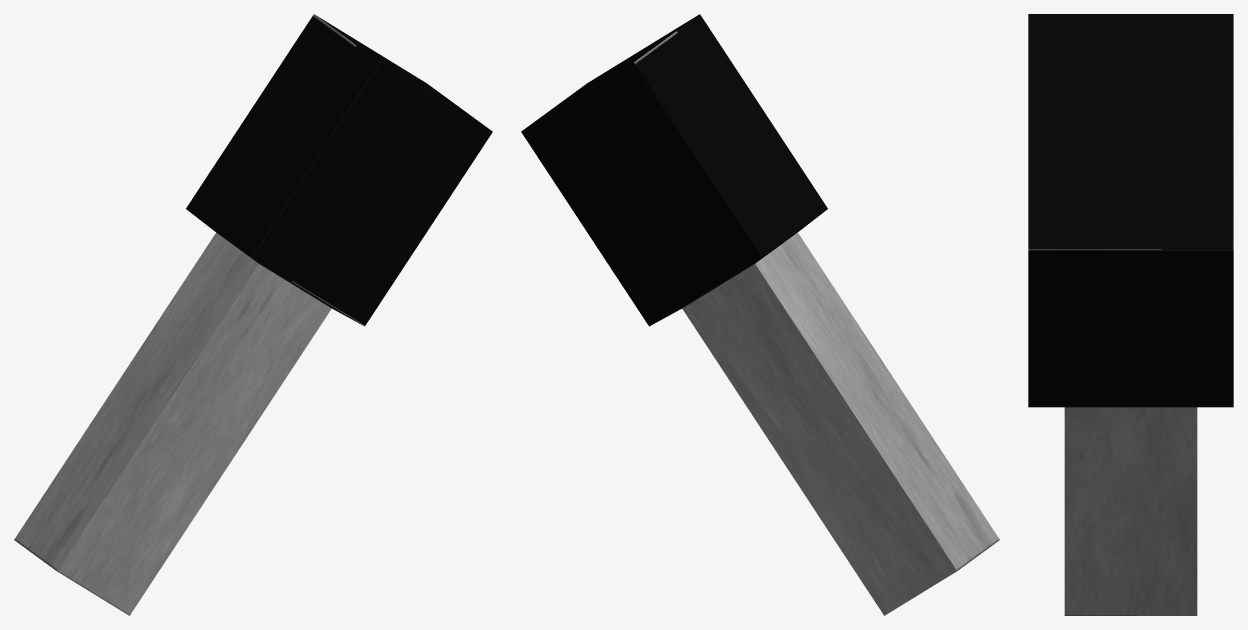
The model's file is Palanca_CajaVolteos.fbx.
3 renders of one model, left to right at view 1: azimuth 30°, elevation 25°; view 2: azimuth 150°, elevation 25°; view 3: azimuth 270°, elevation 25°, orthographic. The views are drawn at different scales.
Visible parts, largest first — view 1: Cube.013; view 2: Cube.013; view 3: Cube.013.
Part boxes in pixels (x1,y1,x2,y2): Cube.013: (14, 14, 492, 615); Cube.013: (521, 14, 999, 615); Cube.013: (1028, 14, 1233, 615).
Bounding box in the file's own units: 111 × 126 × 30.03.
Materials: 1 (1 with a texture image).
